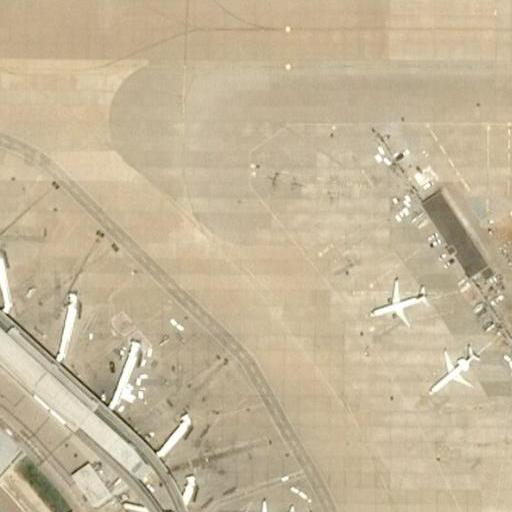Aircraft: (366, 276, 429, 327), (419, 349, 485, 396), (240, 499, 299, 512)
